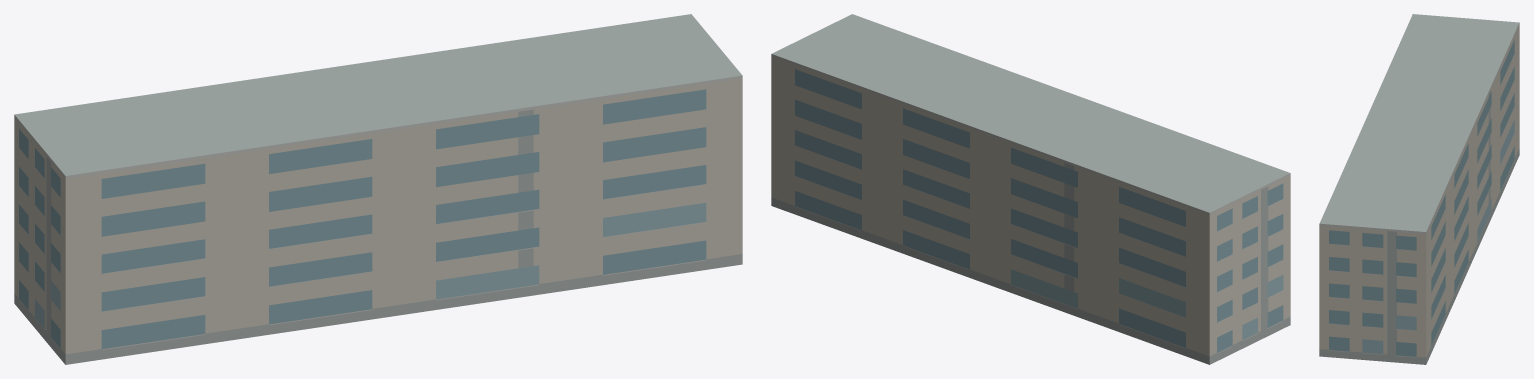
Rendered from residential-e647e8c2-2185-46cd-95ae-8889bb8f75ce.glb.
3 renders of one model, left to right at view 1: azimuth 30°, elevation 25°; view 2: azimuth 150°, elevation 25°; view 3: azimuth 270°, elevation 25°, orthographic. The views are drawn at different scales.
Visible parts, largest first — view 1: residential-e647e8c2-2185-46cd-95ae-8889bb8f75ce.tmp; view 2: residential-e647e8c2-2185-46cd-95ae-8889bb8f75ce.tmp; view 3: residential-e647e8c2-2185-46cd-95ae-8889bb8f75ce.tmp.
Part boxes in pixels (box(x1,y1,x2,y2)): residential-e647e8c2-2185-46cd-95ae-8889bb8f75ce.tmp: box(14, 14, 742, 364); residential-e647e8c2-2185-46cd-95ae-8889bb8f75ce.tmp: box(771, 14, 1290, 364); residential-e647e8c2-2185-46cd-95ae-8889bb8f75ce.tmp: box(1319, 14, 1519, 364).
Size of the model in its own units: 53.69 by 15.25 by 20.82.
